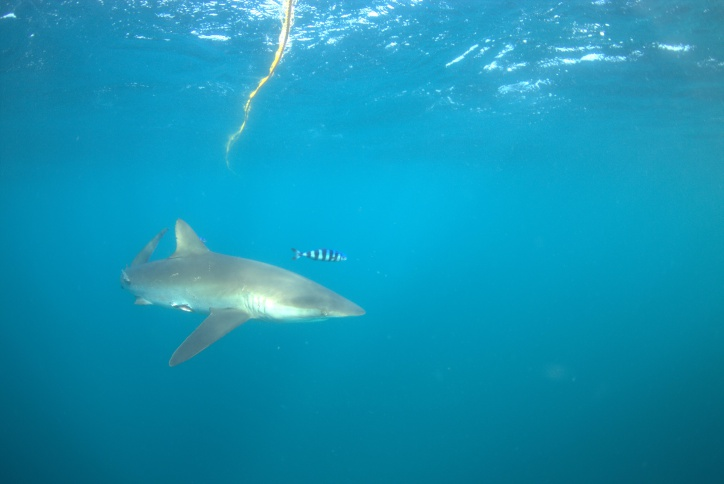Sedoso: (115, 213, 366, 367)
